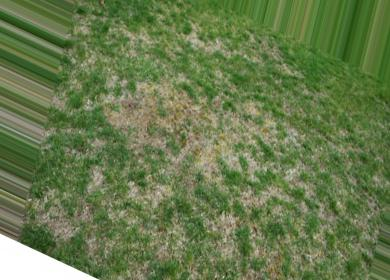patch: (136, 109, 165, 147), (202, 138, 218, 173), (181, 99, 204, 119), (151, 181, 172, 202), (218, 144, 237, 160)
